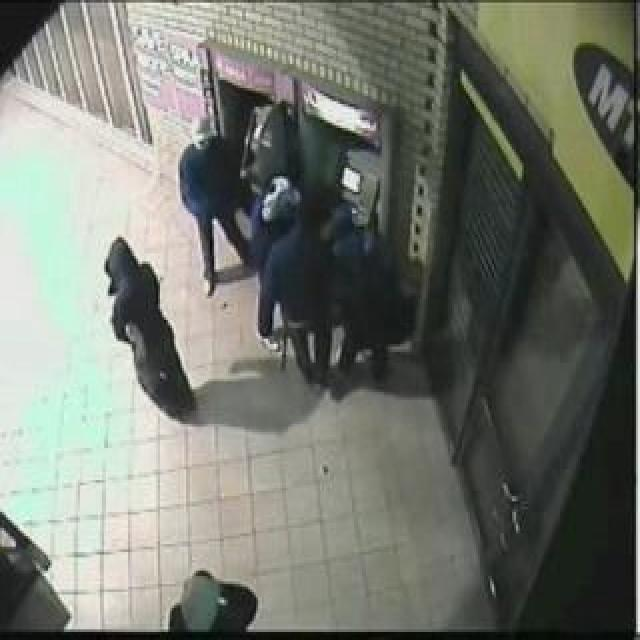thief: (180, 98, 397, 317), (77, 213, 161, 294)
